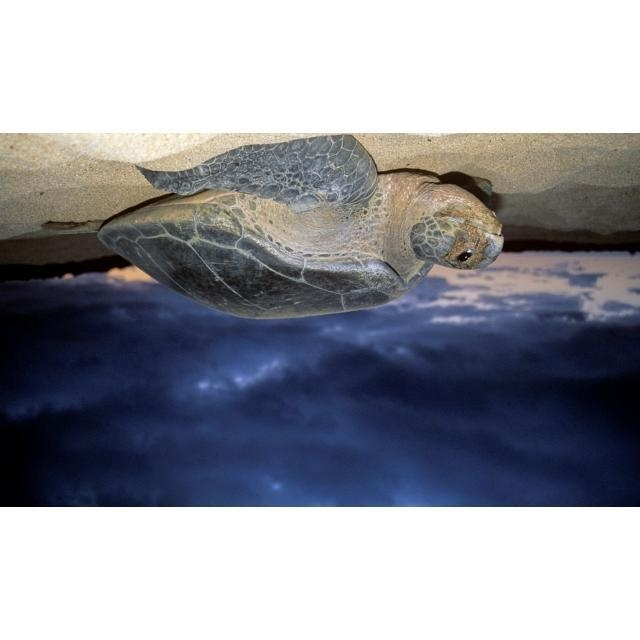turtle: (95, 136, 505, 320)
